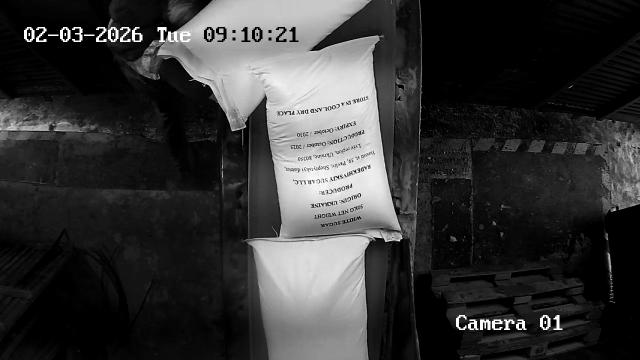bag: (249, 35, 402, 244), (158, 0, 372, 129), (244, 234, 370, 360)
